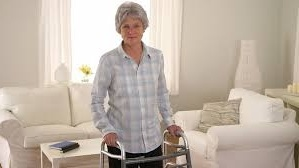not_fallen: (89, 3, 192, 167)
